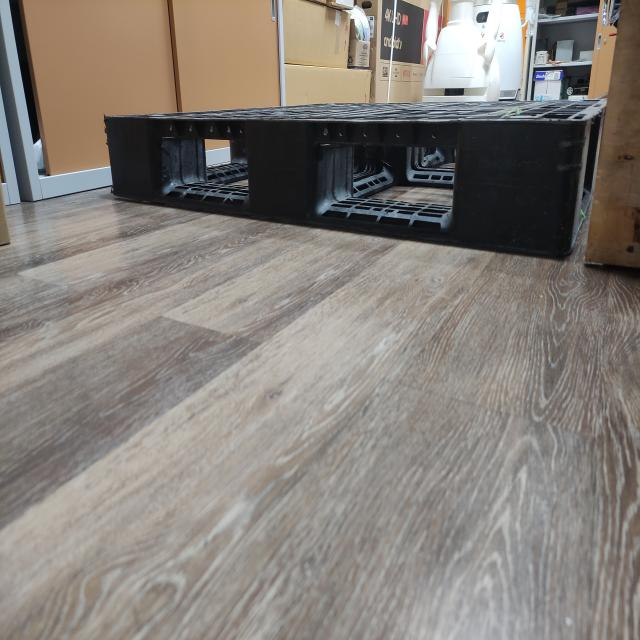block: (453, 121, 576, 258), (249, 121, 324, 230), (100, 113, 167, 207)
front: (100, 109, 574, 260)
